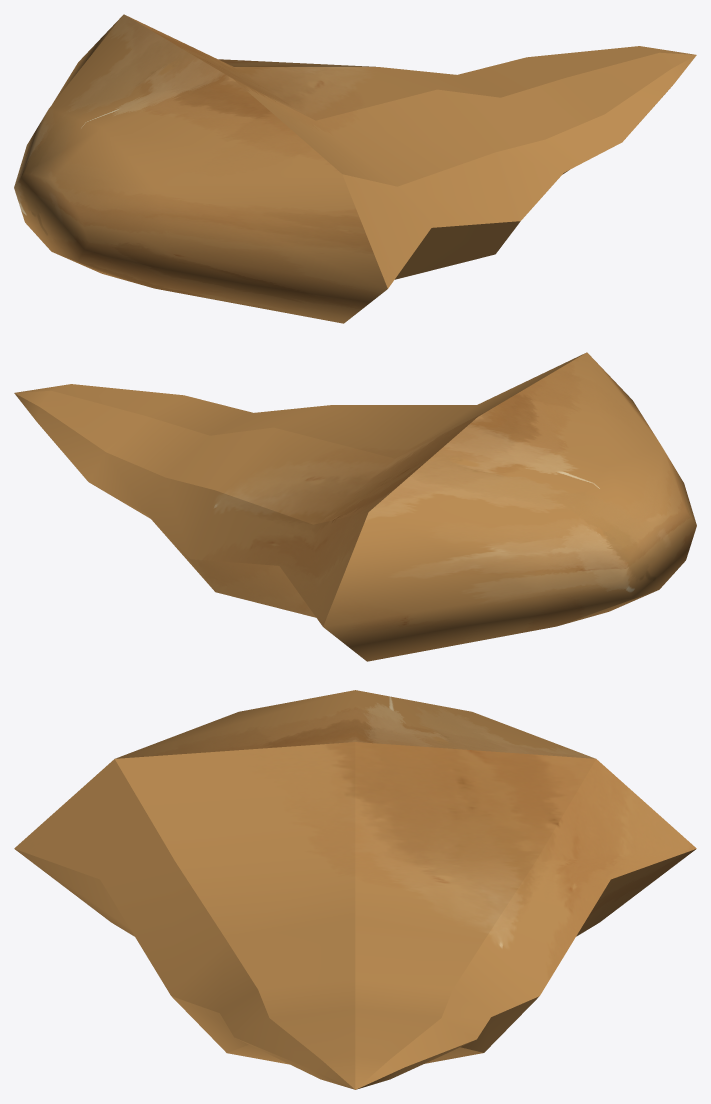
Rendered from leaf4.fbx.
The picture shows the model from 3 angles, top to bottom: view 1: azimuth 30°, elevation 25°; view 2: azimuth 150°, elevation 25°; view 3: azimuth 270°, elevation 25°; orthographic projection. The views are drawn at different scales.
Visible parts, largest first — view 1: pCone2; view 2: pCone2; view 3: pCone2.
Part boxes in pixels (x1,y1,x2,y2): pCone2: (14, 14, 696, 323); pCone2: (14, 352, 696, 661); pCone2: (14, 690, 696, 1089).
Size of the model in its own units: 3.32 by 1.11 by 2.76.
